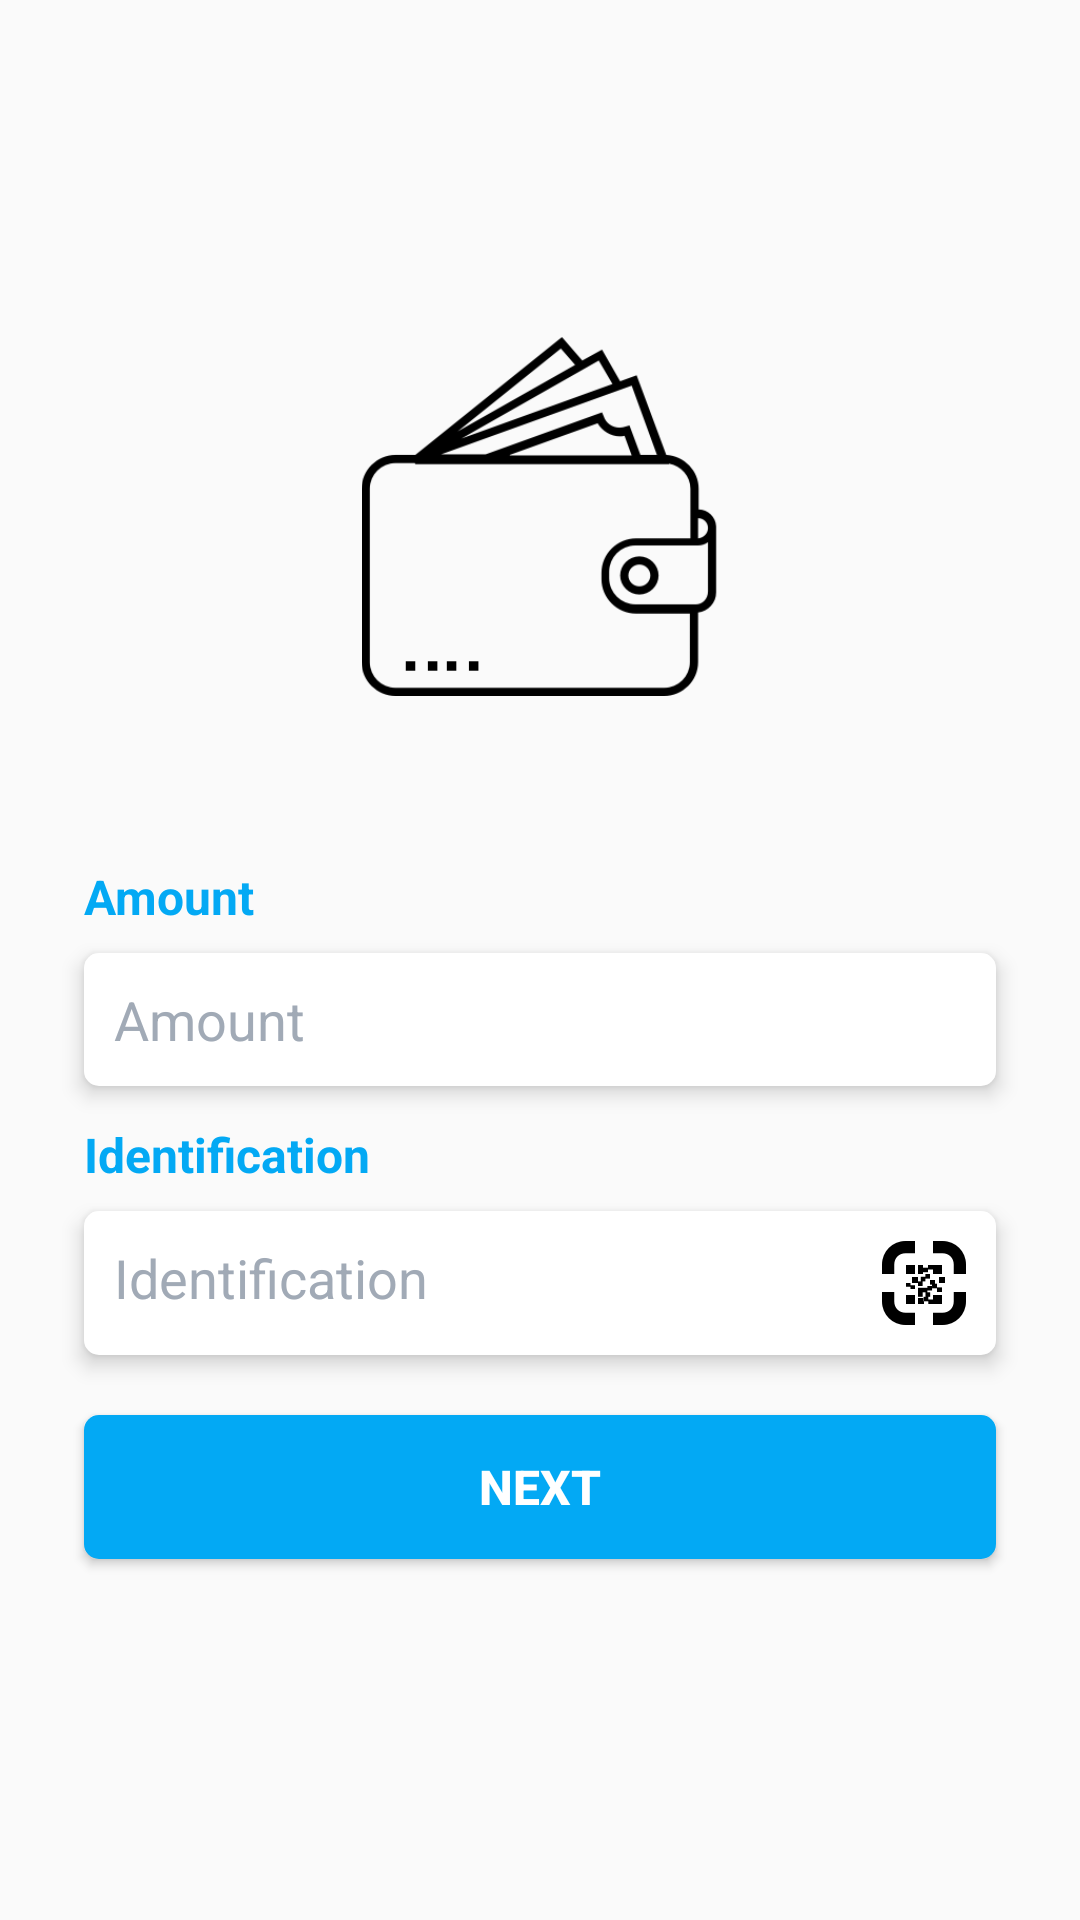

Icon bounding boxes for this 1080 × 1920 phone screenshot, format (x1, y1, x2, y2):
add money: (362, 337, 717, 696)
